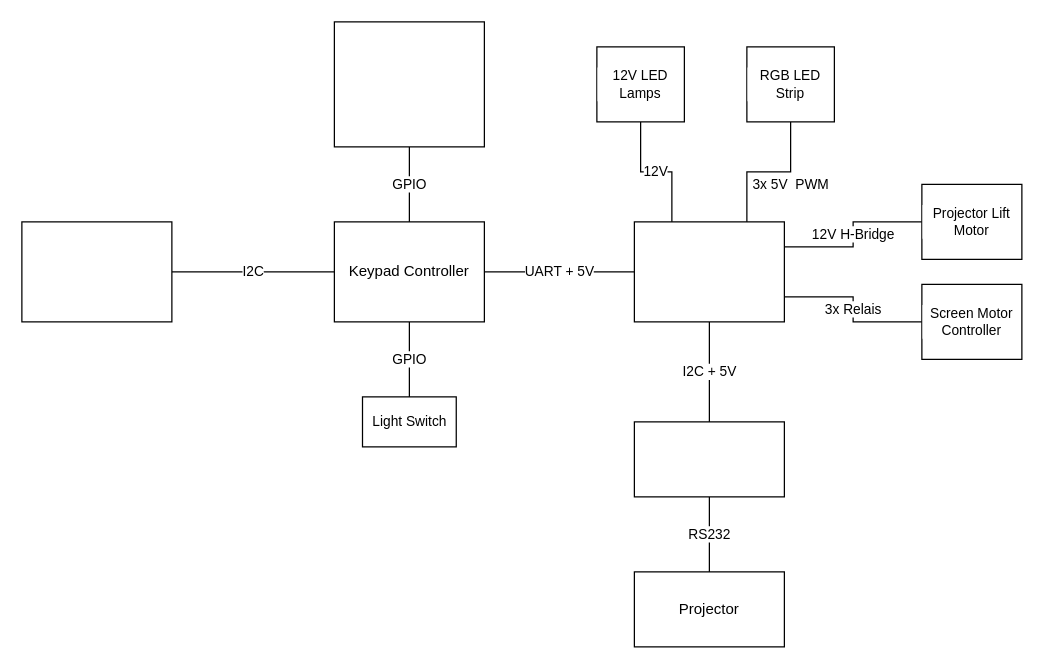
The diagram is 1044 pixels wide and 669 high, and some of its shapes have lost their labels. The box of each missing label's shape, as (x1, y1, x2, y2) in pixels:
FancyControl: (633, 221, 784, 322)
Keypad 4 x 4: (333, 21, 484, 147)
Projector Controller: (633, 421, 784, 497)
Raspberry PI: (21, 221, 172, 322)
